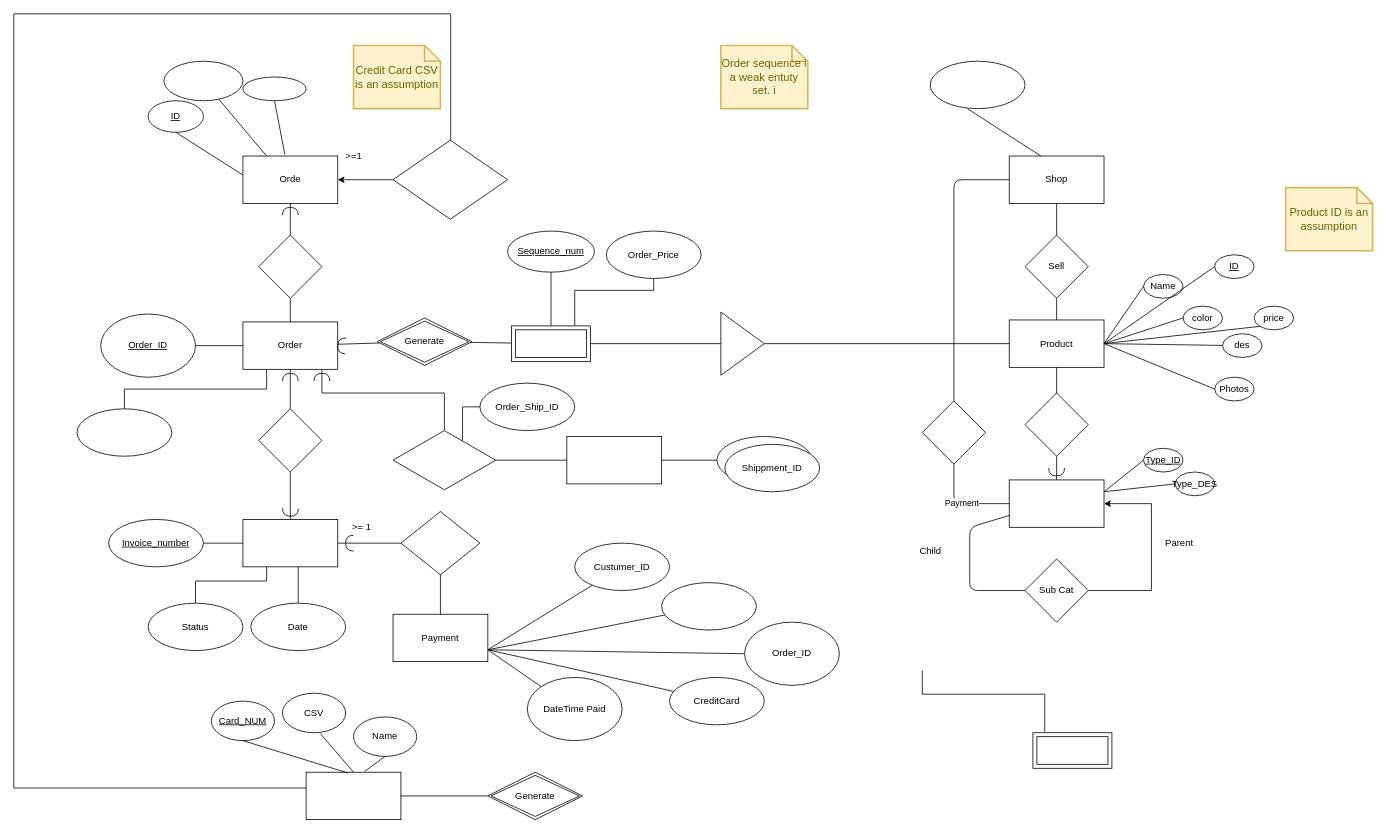
Some shapes in this 1387 by 833 pixel diagram are drawn without their labels. The shapes that lost their labels are listed below. From the top down, each one's centre as x and y in pixels, then its label:
At pixel 203 80: "UniqueKey".
At pixel 274 88: "Email".
At pixel 977 84: "Shop ID".
At pixel 450 179: "Customer_CreditCard".
At pixel 290 266: "Place".
At pixel 551 343: "Order_Item".
At pixel 742 343: "isa".
At pixel 124 432: "Is_Fully_Paid".
At pixel 290 440: "Issue".
At pixel 954 432: "Restricted".
At pixel 1056 424: "Assign".
At pixel 444 460: "Order_Ship".
At pixel 614 460: "Shipmment".
At pixel 1056 503: "Product Type".
At pixel 290 543: "Invoice".
At pixel 440 543: "MakePayment".
At pixel 708 606: "Payment_ID".
At pixel 1072 750: "payment record".
At pixel 353 795: "Credit Card".
